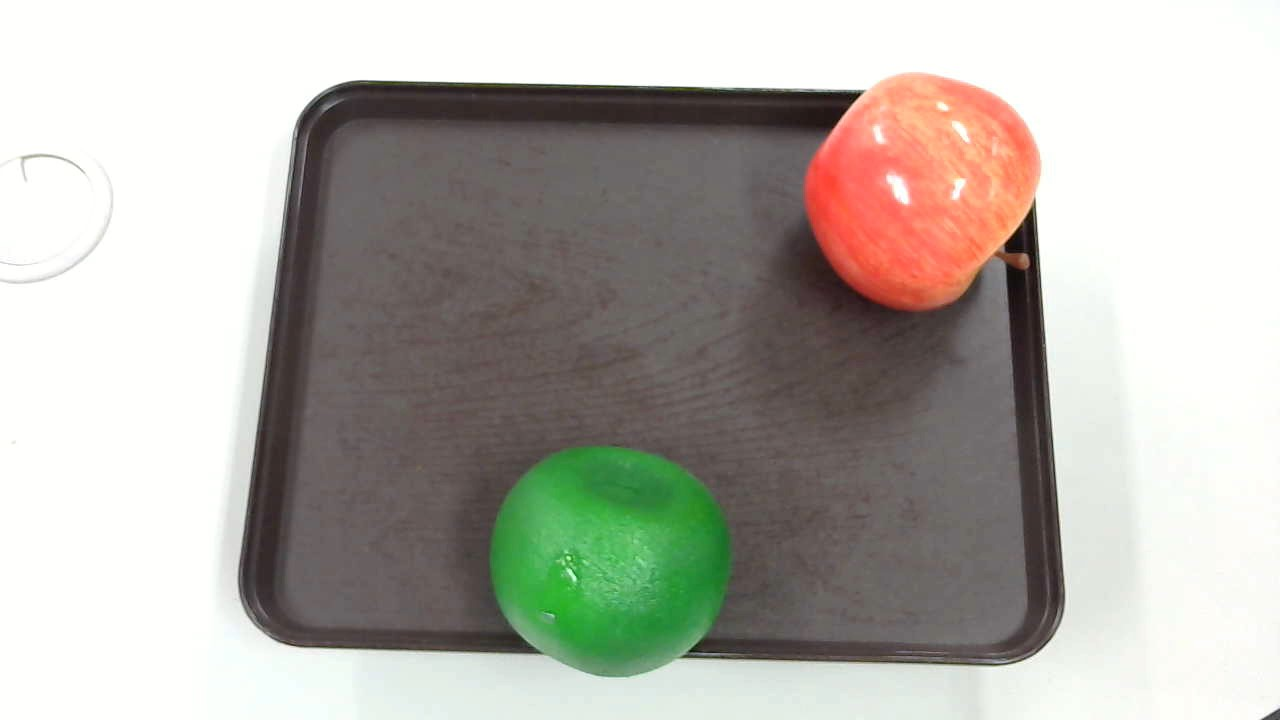green orange: (486, 448, 731, 676)
red apple: (803, 63, 1040, 310)
